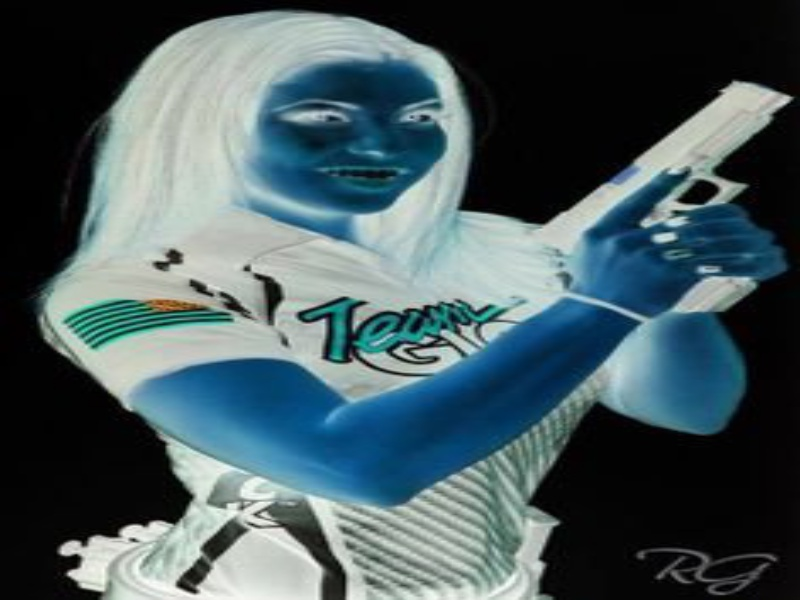wine: (66, 118, 181, 468), (670, 107, 799, 415), (221, 160, 319, 373), (164, 150, 231, 417), (319, 172, 403, 332), (612, 170, 668, 397), (518, 179, 591, 335)
